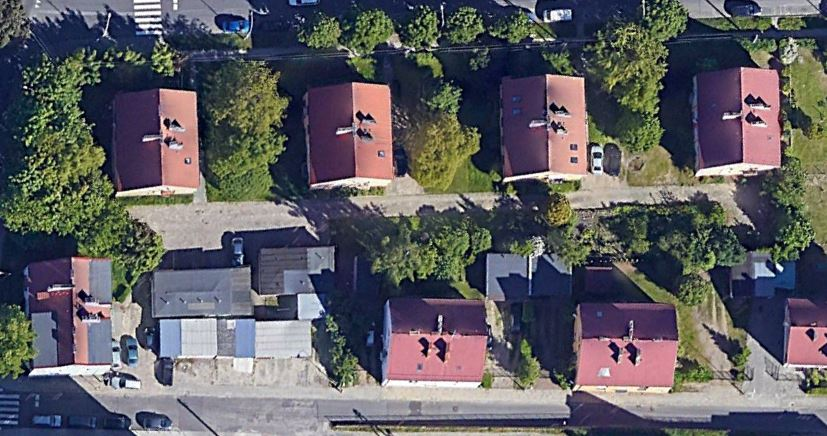family house: (17, 253, 117, 378), (688, 63, 787, 180), (300, 76, 399, 193), (108, 79, 207, 196), (566, 298, 682, 396), (377, 293, 493, 390), (497, 72, 594, 182), (776, 284, 827, 375)
garage: (155, 316, 322, 367), (255, 243, 338, 322), (150, 260, 257, 321), (481, 248, 582, 304), (722, 252, 800, 302)
